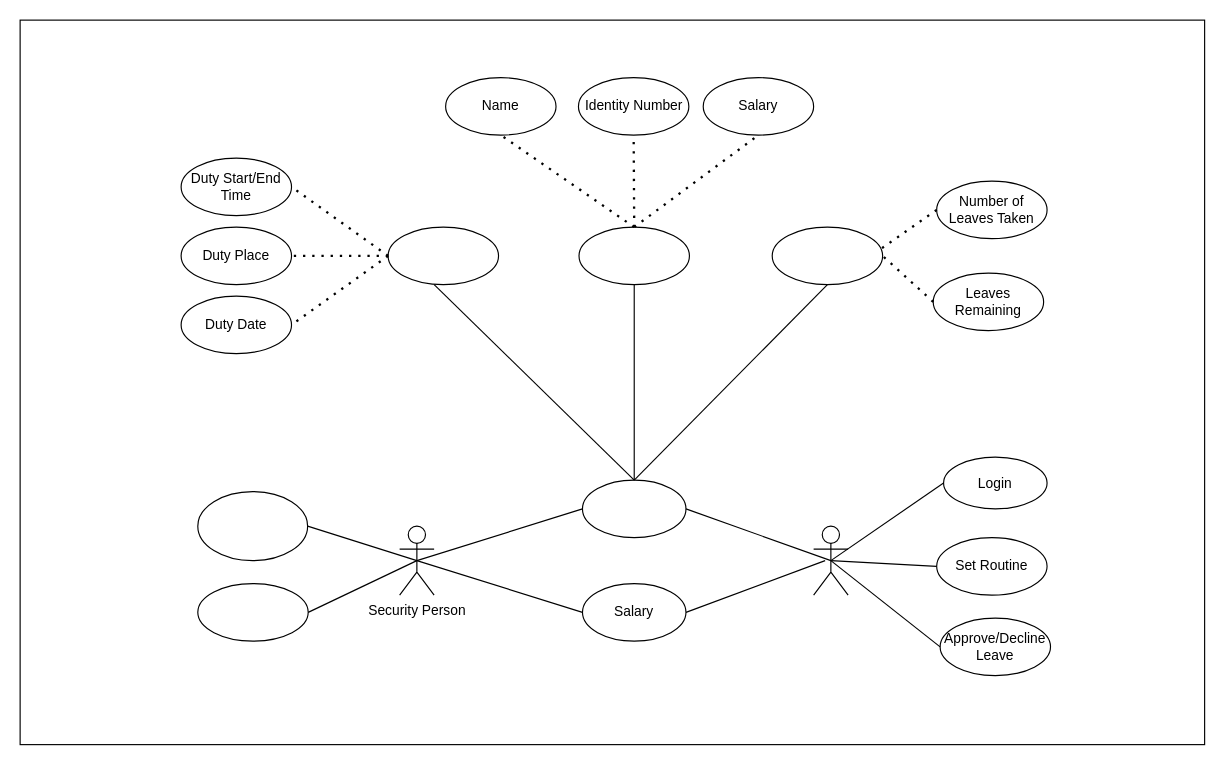
This 1225x765 diagram has some shape labels left out. The shapes that lost their labels are listed below. From the top down, each one's centre as x and y in pixels, then its label:
the point at 443,255: View Routine
the point at 633,255: Personal Details
the point at 827,255: View Leave
the point at 252,525: Registration and Login
the point at 633,508: View Profile
the point at 830,560: Manager
the point at 252,611: Request Leave
